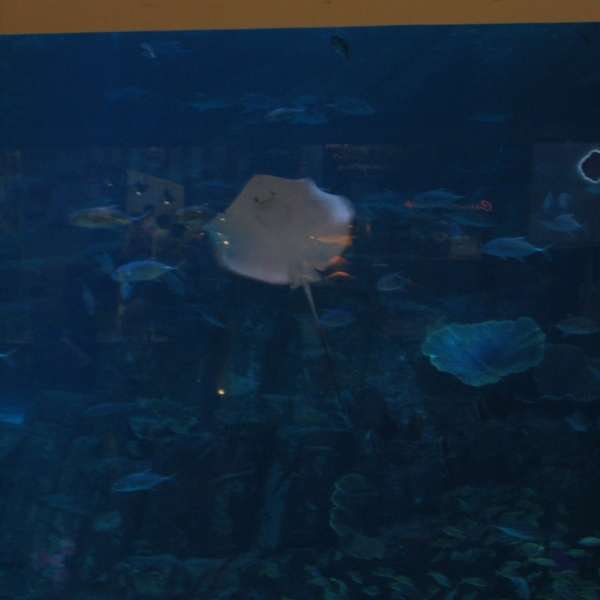Jellyfish: (194, 162, 370, 295)
